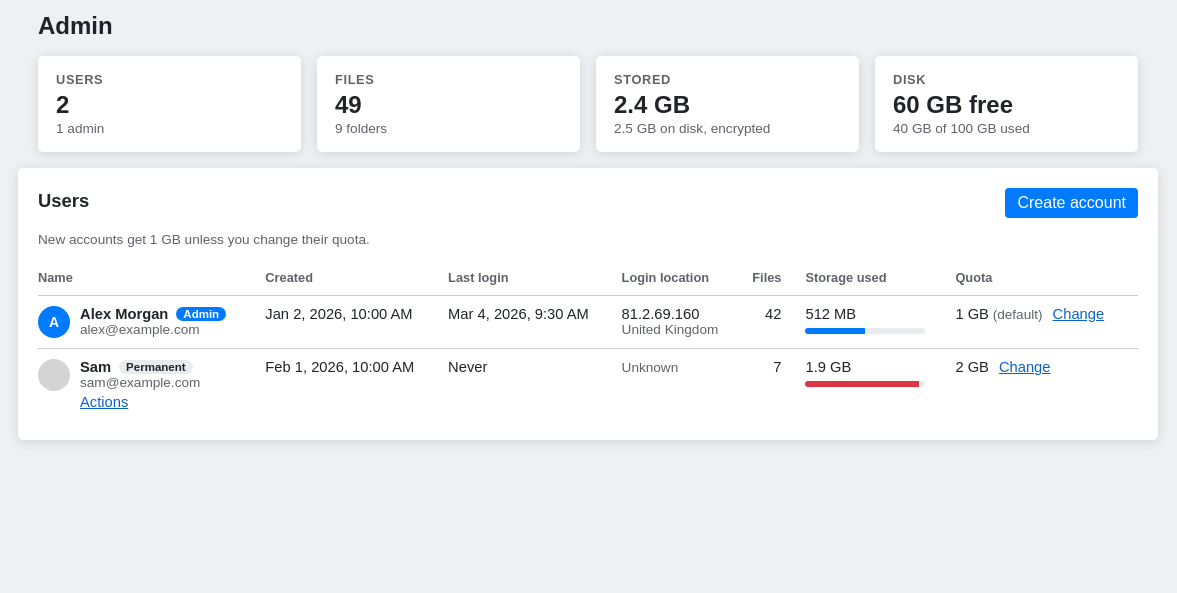
it: Admin page › row actions › closes the open menu when you click anywhere outside it
Click the button with aria-label "Actions for sam@example.com" at (104, 402), box 80,394 -> 128,410
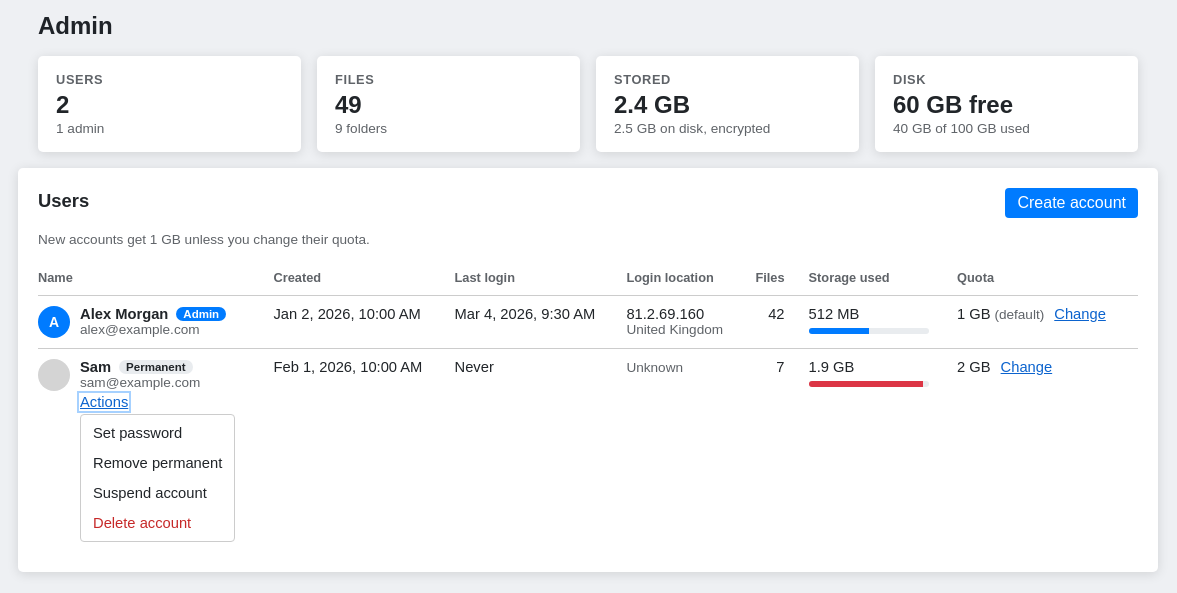
expect the menu is shown: met, box 80,414 -> 235,542
Click the heading "Users" at (64, 201), box 38,190 -> 89,212
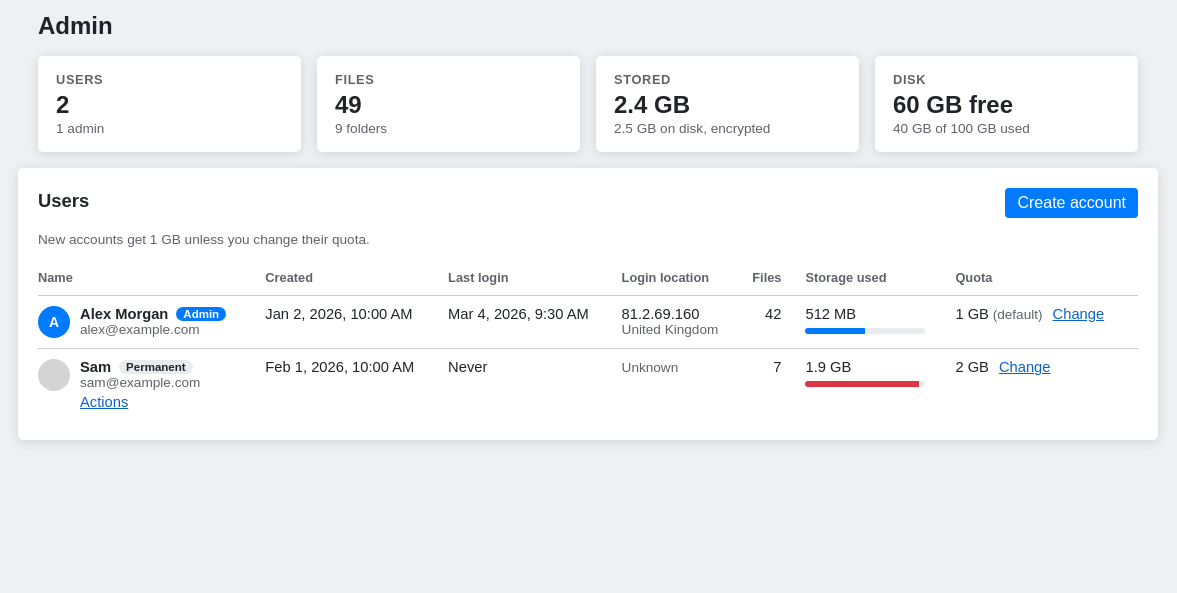
expect the menu is gone: met
